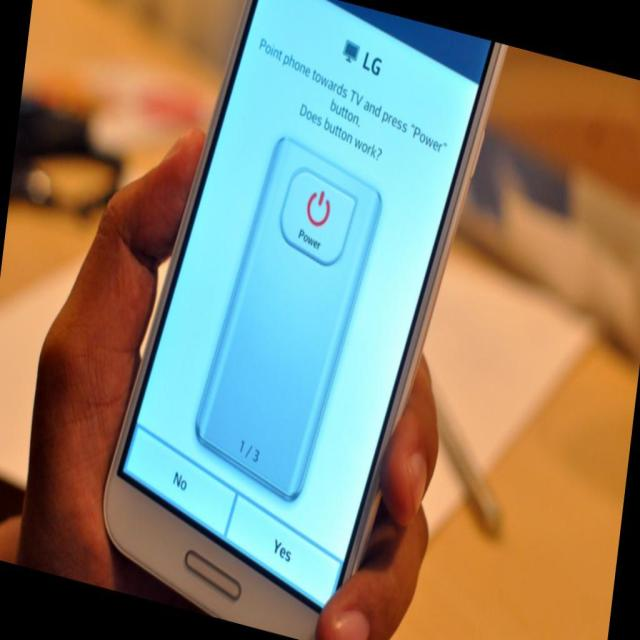handphone: (111, 3, 478, 640)
